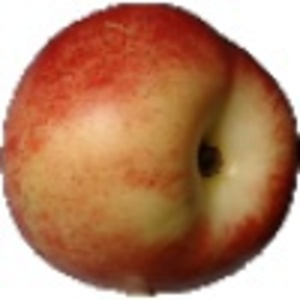nectarina: (1, 2, 300, 300)
